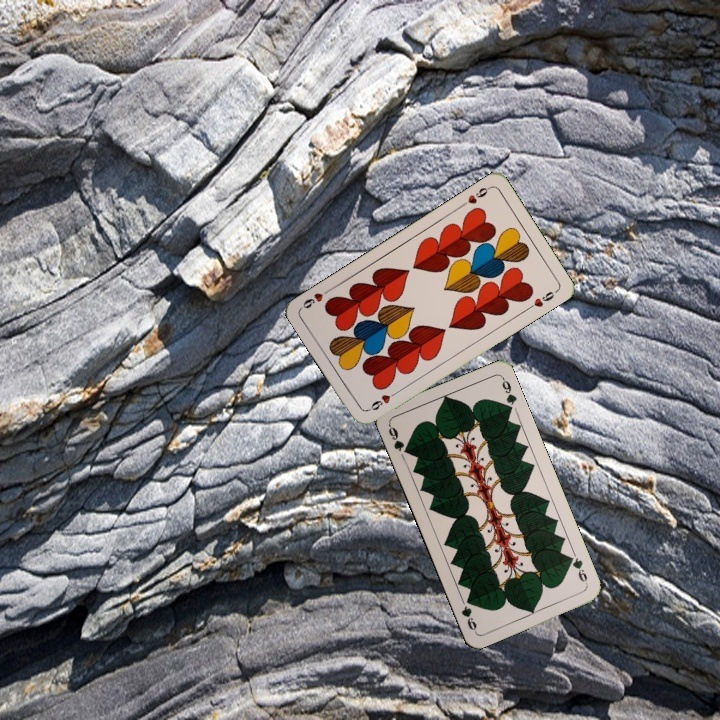G9: (564, 549, 591, 588), (384, 421, 412, 457)
H9: (364, 387, 400, 414), (457, 183, 493, 209)
